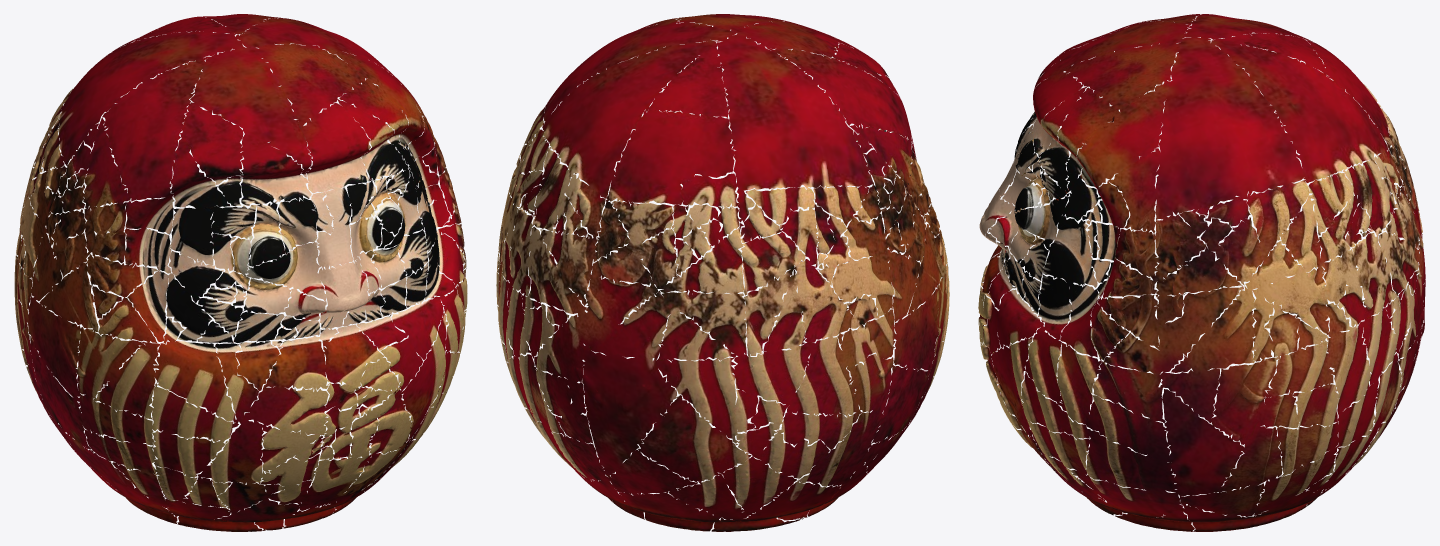
Rendered from daruma_both.glb.
3 renders of one model, left to right at view 1: azimuth 30°, elevation 25°; view 2: azimuth 150°, elevation 25°; view 3: azimuth 270°, elevation 25°, orthographic.
Parts seen in each view (by area): view 1: daruma; view 2: daruma; view 3: daruma.
Part boxes in pixels (x1,y1,x2,y2): daruma: (14,14,467,531); daruma: (496,14,949,531); daruma: (978,14,1425,531).
Bounding box in the file's own units: 1.64 × 1.8 × 1.65.
1 material, 1 textured.
